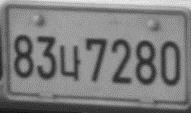0: (160, 41, 181, 86)
2: (110, 37, 133, 85)
3: (36, 35, 56, 80)
7: (84, 37, 108, 83)
8: (135, 40, 156, 85), (13, 34, 34, 78)
나: (58, 44, 81, 81)
